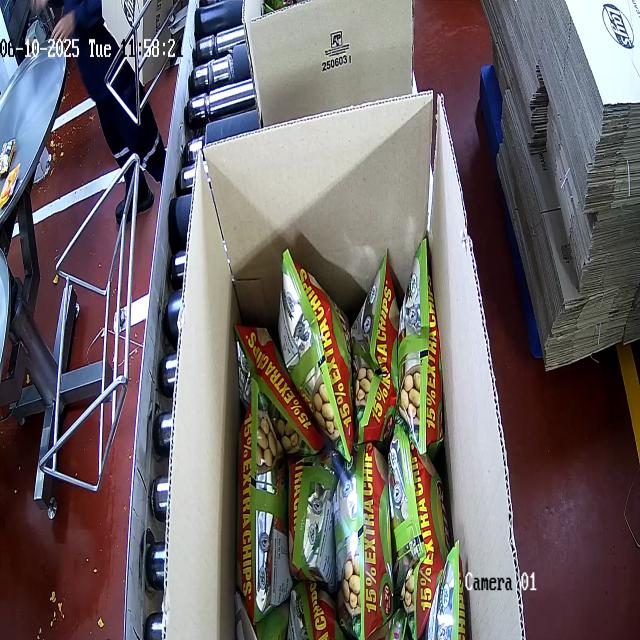YOGURT_HERB: (228, 213, 471, 640)
